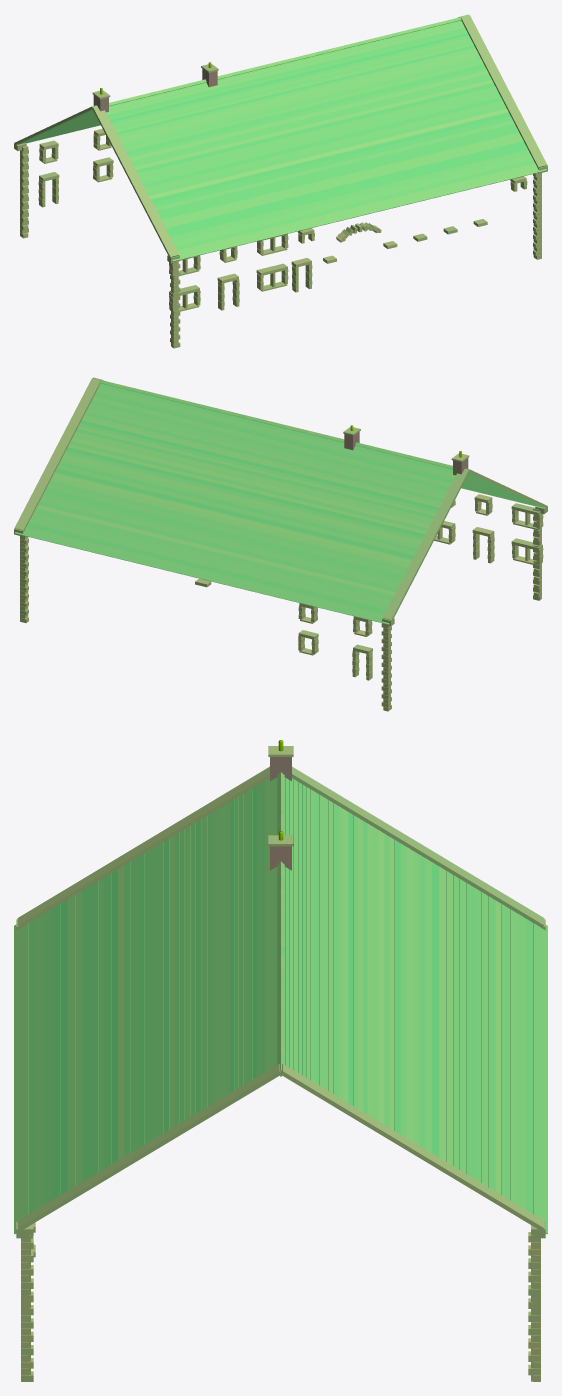
The model's file is SM_Bld_126_Stone.glb.
The picture shows the model from 3 angles, top to bottom: view 1: azimuth 30°, elevation 25°; view 2: azimuth 150°, elevation 25°; view 3: azimuth 270°, elevation 25°; orthographic projection. The views are drawn at different scales.
Parts seen in each view (by area): view 1: SM_Bld_126_Stone; view 2: SM_Bld_126_Stone; view 3: SM_Bld_126_Stone.
Boxes of the visible parts, x1,y1,x2,y2 form: SM_Bld_126_Stone: (14,14,547,348); SM_Bld_126_Stone: (14,377,547,711); SM_Bld_126_Stone: (14,740,547,1381).
Size of the model in its own units: 30.04 by 15.42 by 21.85.
